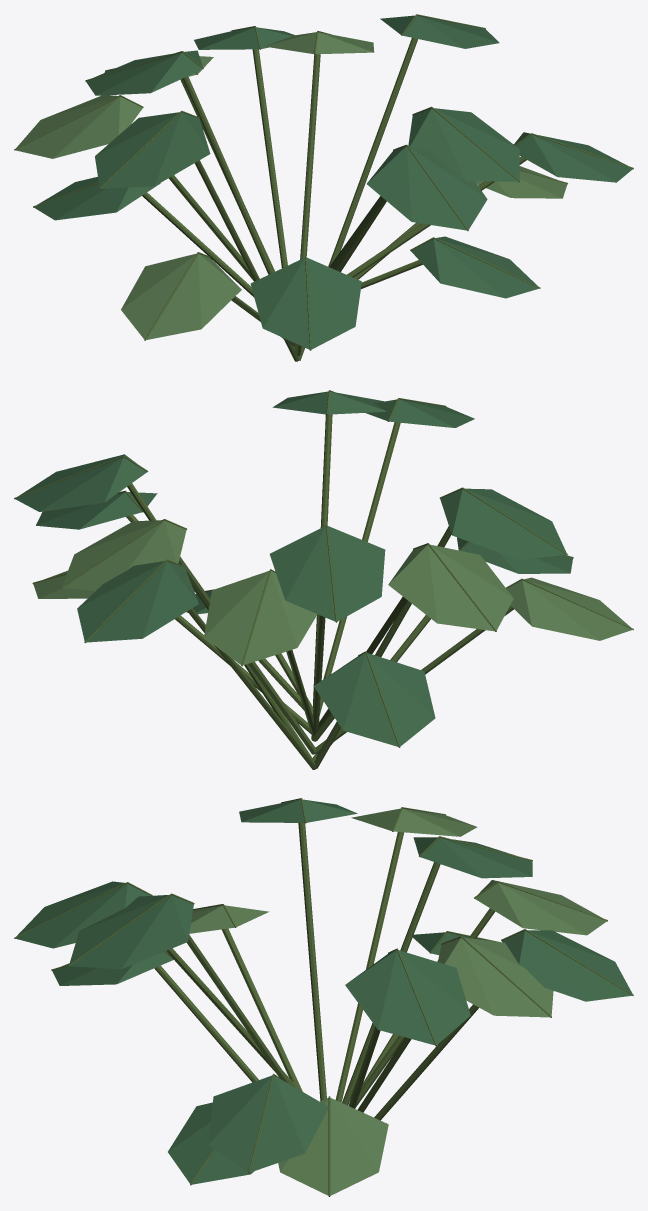
File: pothos.glb
3 views of the same model, one above another, from view 1: azimuth 30°, elevation 25°; view 2: azimuth 150°, elevation 25°; view 3: azimuth 270°, elevation 25° (orthographic). The views are drawn at different scales.
Parts seen in each view (by area): view 1: pothos; view 2: pothos; view 3: pothos.
Part boxes in pixels (x1,y1,x2,y2): pothos: [14, 14, 633, 361]; pothos: [14, 390, 633, 769]; pothos: [14, 798, 633, 1196].
Bounding box in the file's own units: 1.31 × 0.6993 × 1.25.
